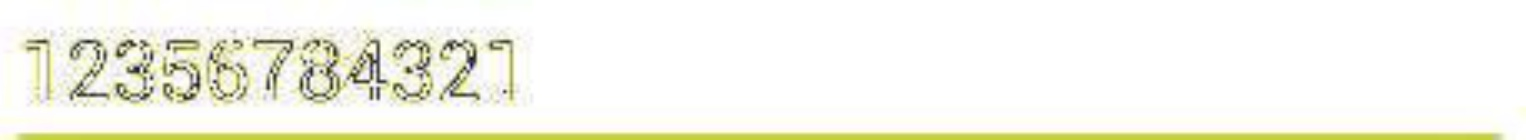EditText: (1, 1, 1525, 139)
